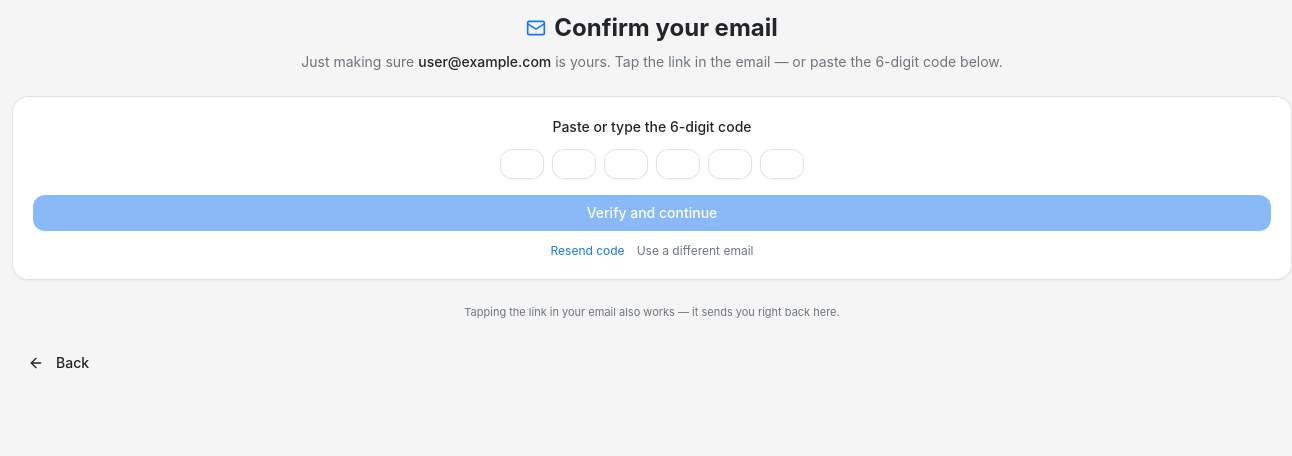
Test: RecipientStepContact › surfaces a Supabase error when verification fails
The width and height of the screenshot is (1292, 456).
In the field named "Digit 1": (522, 164) [500,149,544,179], type "1"
In the field named "Digit 2": (574, 164) [552,149,596,179], type "1"
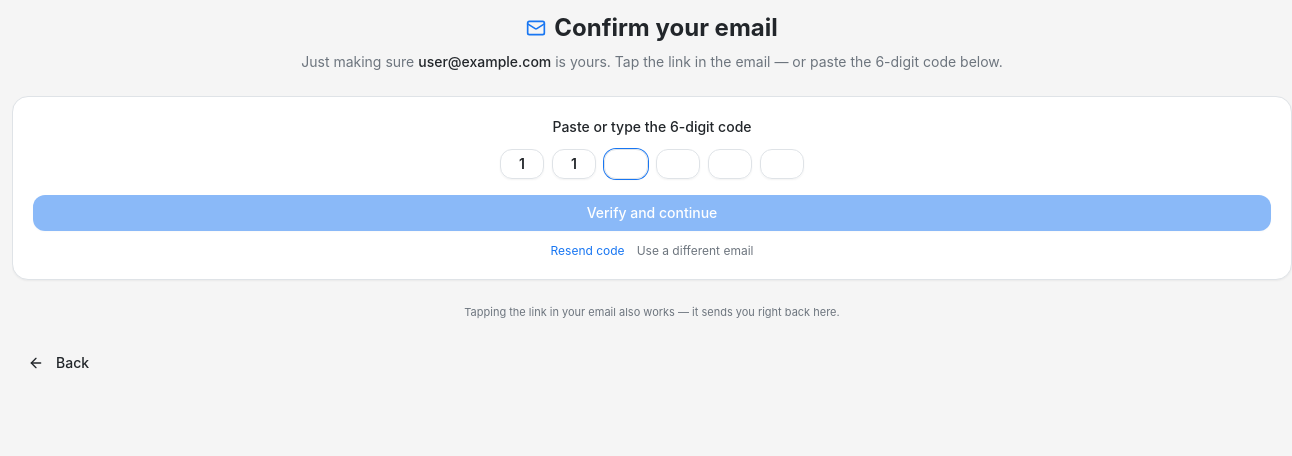
In the field named "Digit 3": (626, 164) [604,149,648,179], type "1"
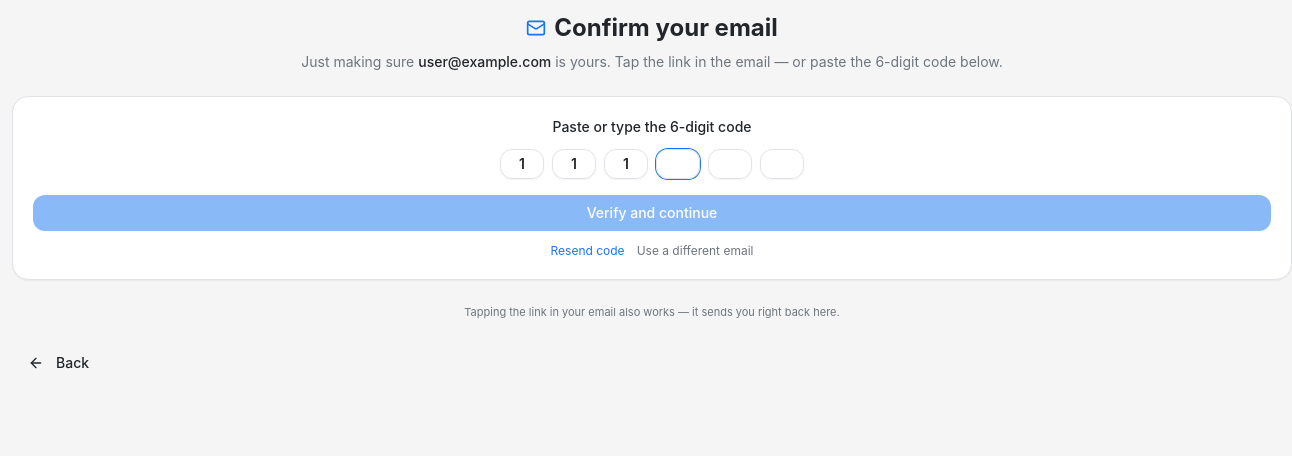
In the field named "Digit 4": (678, 164) [656,149,700,179], type "1"
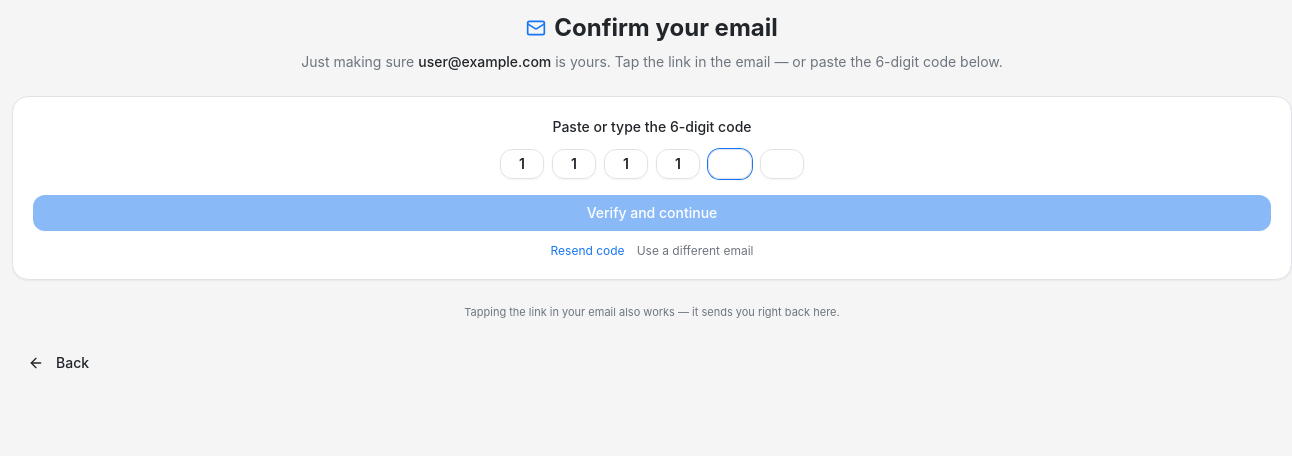
In the field named "Digit 5": (730, 164) [708,149,752,179], type "1"
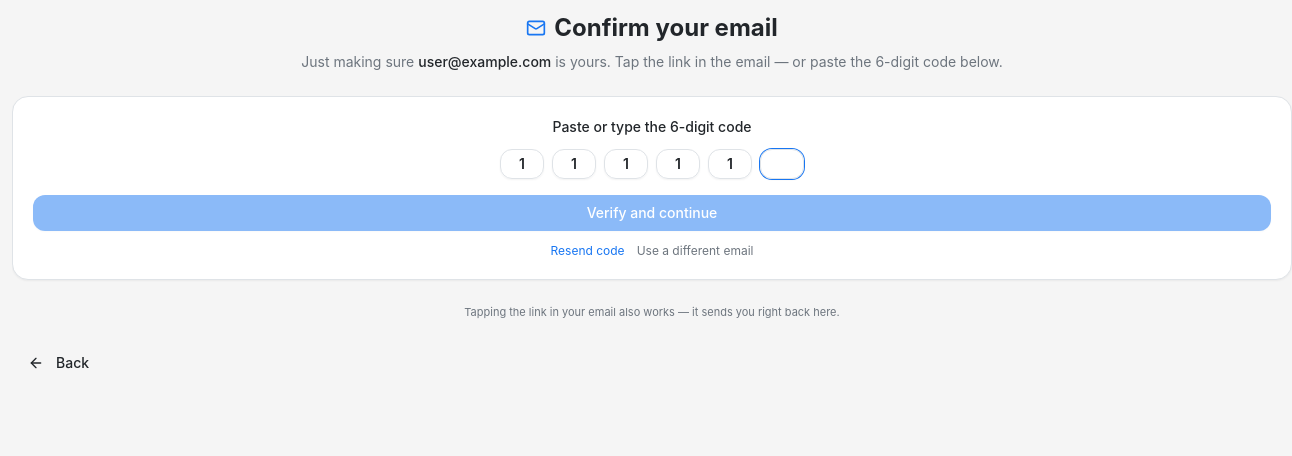
In the field named "Digit 6": (782, 164) [760,149,804,179], type "1"
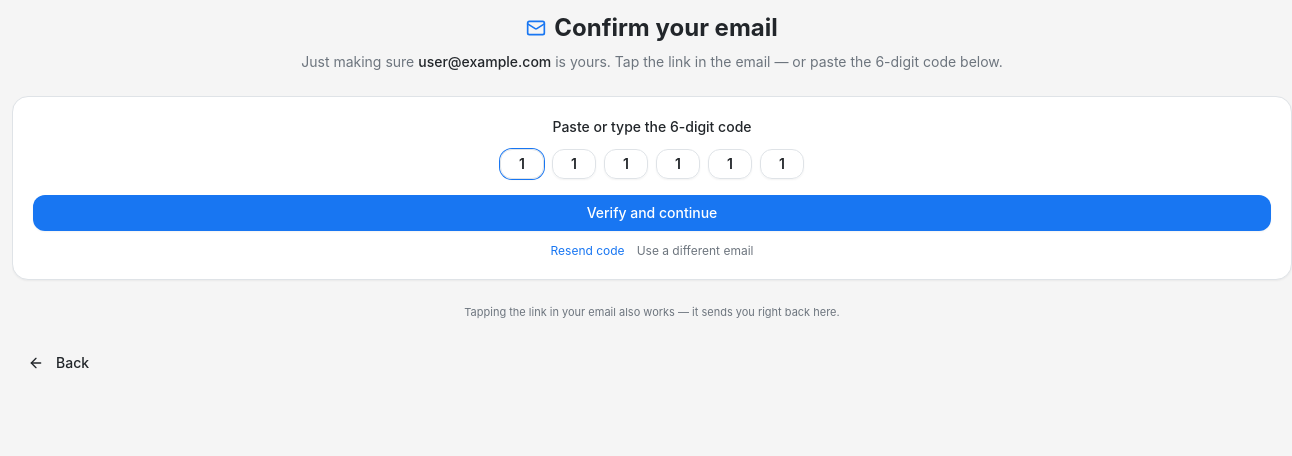
Result: the button "Verify and continue" is enabled
Click the button "Verify and continue": (652, 213) [33,195,1271,231]
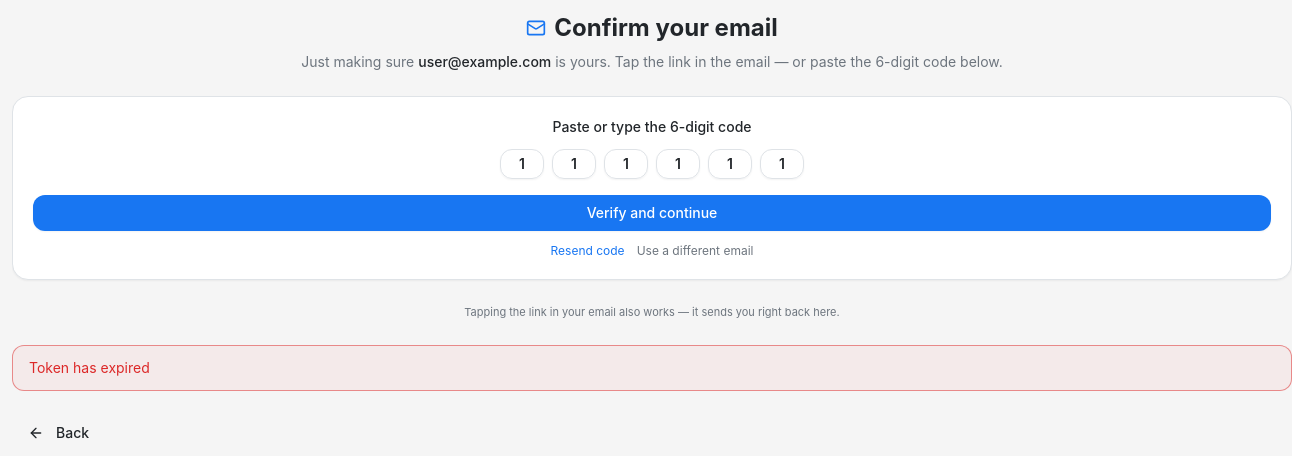
Result: the text "Token has expired" is shown at [12,344,1291,390]
